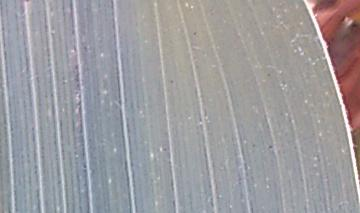tarspot: (159, 144, 171, 154), (167, 77, 177, 86), (264, 70, 274, 78), (266, 142, 274, 151), (190, 29, 198, 36)
